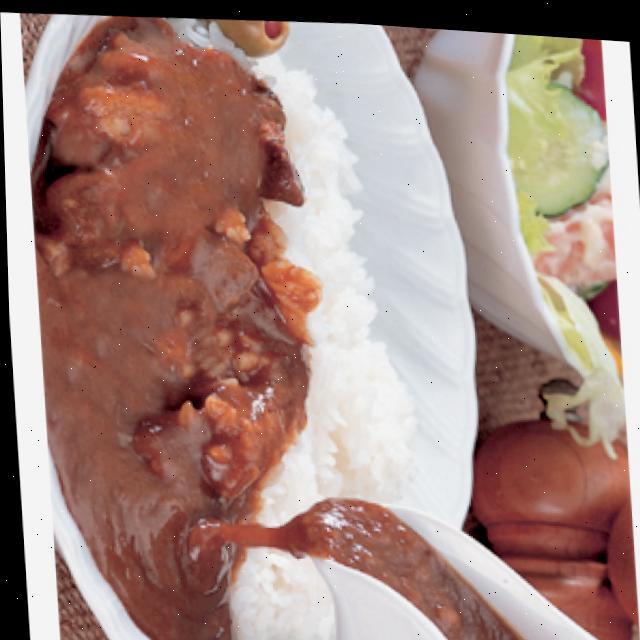牛肉菜式: (12, 1, 429, 640)
